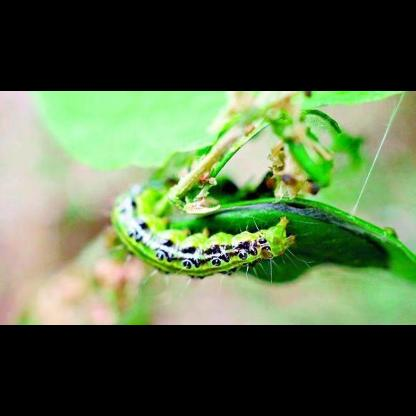oruga: (110, 180, 302, 280)
